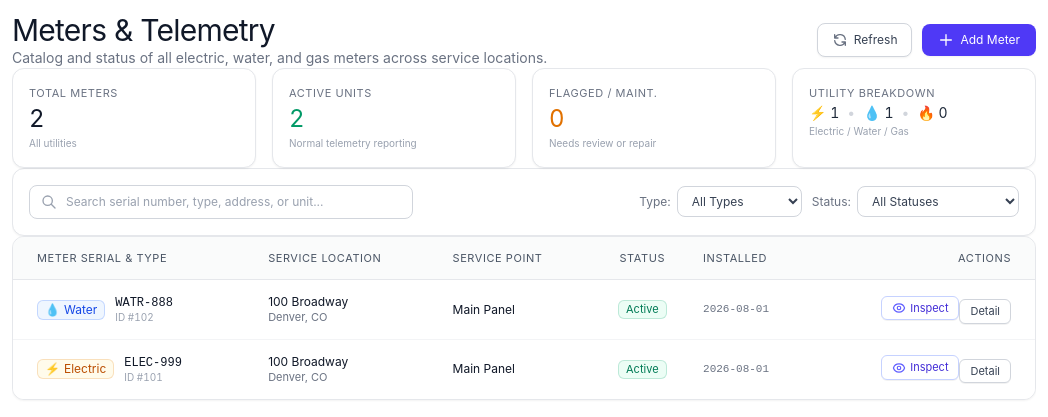
Test: MetersView.vue › filters meters by search query
The image size is (1048, 417).
Step 1. Type "WATR" into the field with placeholder "Search serial number, type, address, or unit..." → [221, 202], box [29,185,413,219]
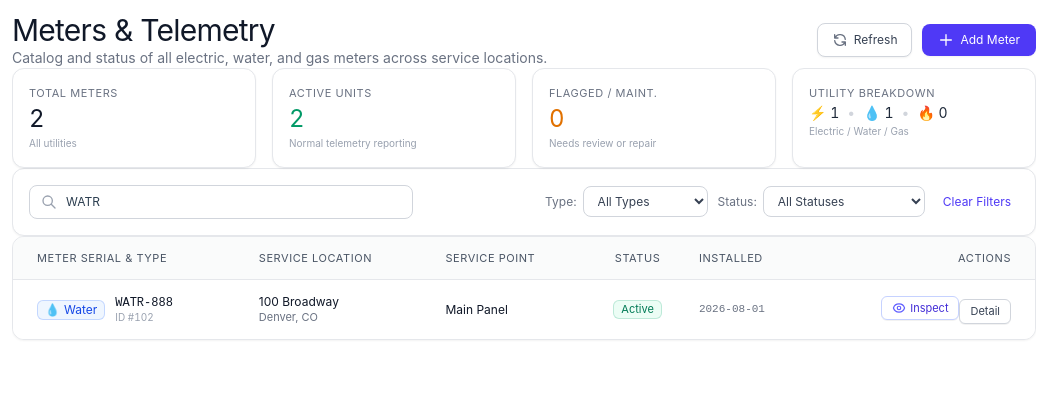
Expected: the text "WATR-888" is shown, [115,296,173,310]
Now the text "ELEC-999" is gone
